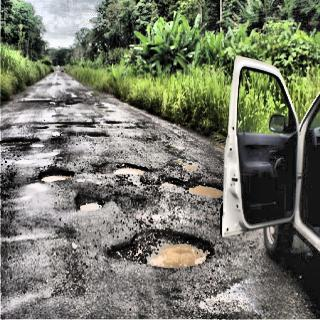pothole: (108, 224, 212, 273), (69, 188, 109, 214), (101, 160, 146, 178), (38, 166, 76, 185), (186, 180, 226, 198), (0, 135, 41, 148), (181, 161, 200, 170)
